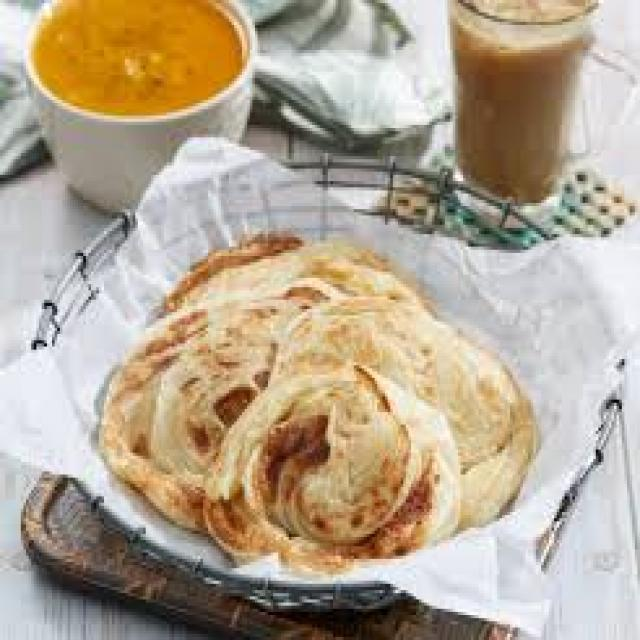Paratha: (82, 229, 568, 572)
